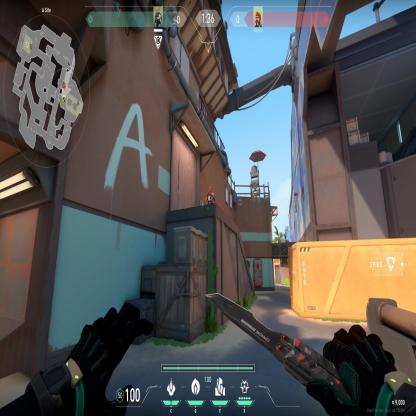enemy: (205, 186, 216, 206)
